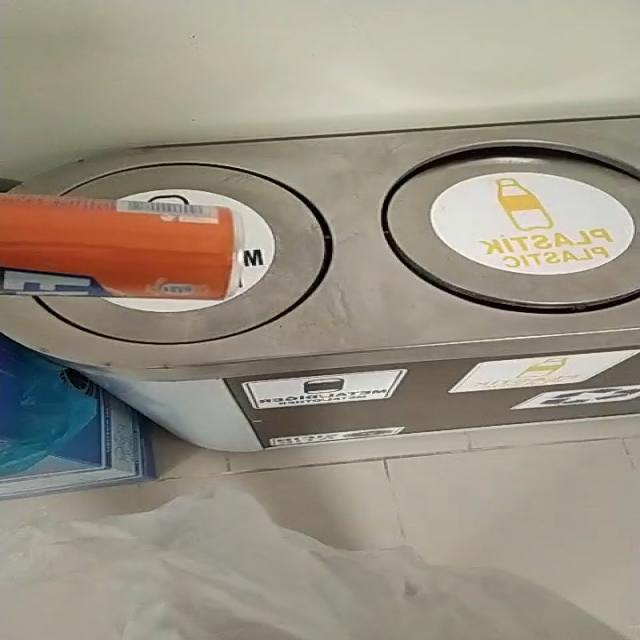bin: (0, 105, 640, 452)
